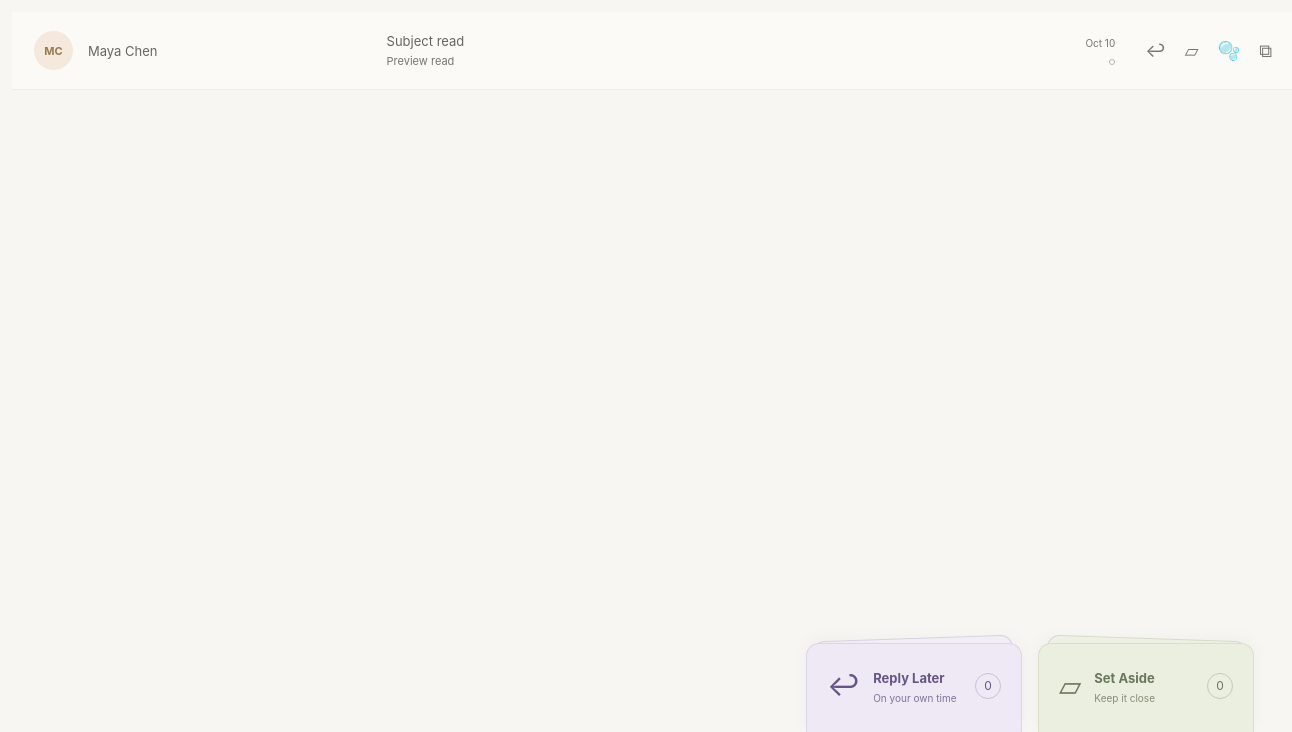
Test: shared mail components › marks seen rows distinctly and lets row actions update actual dock counts
The width and height of the screenshot is (1292, 732).
expect the element named "Seen" is shown: met, box [1109,58,1115,64]
Click the button named "Reply later: Subject read". click: (1156,50)
box: [1137,36,1174,66]
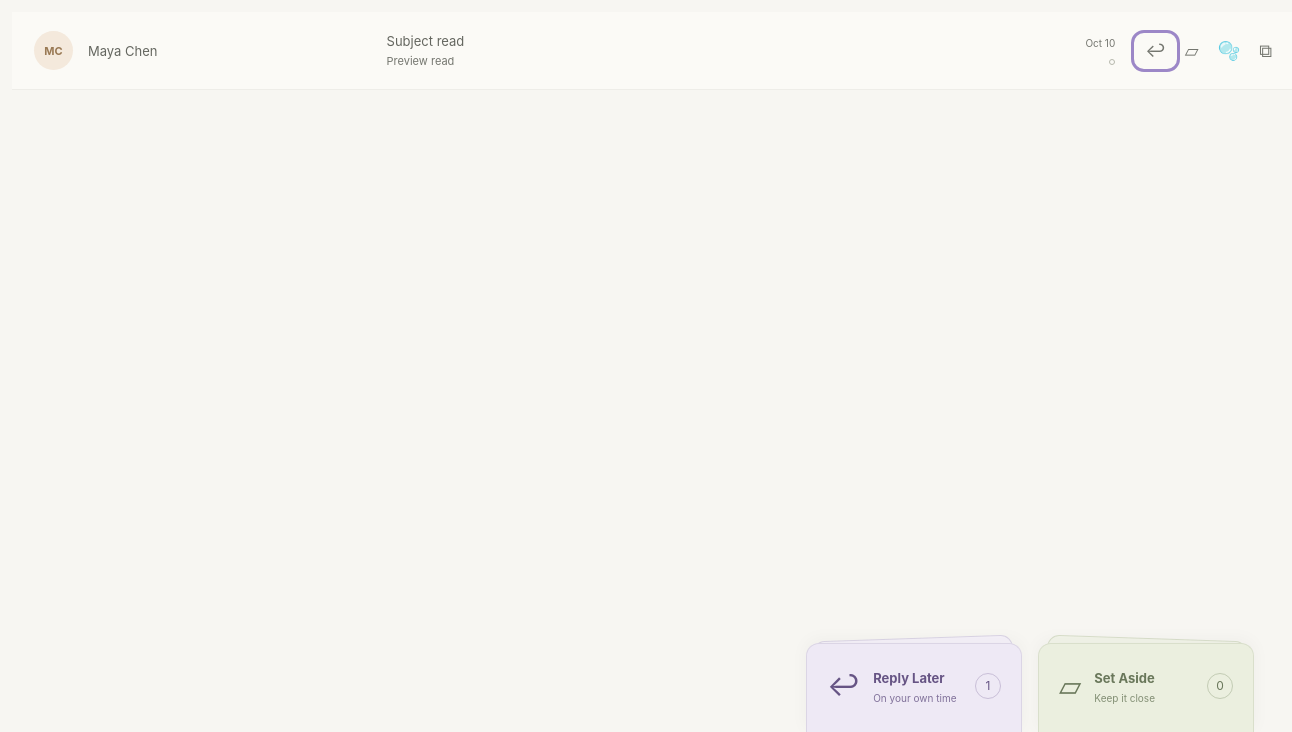
Click the button named "Set aside: Subject read". click: (1192,50)
box: [1177,36,1207,66]
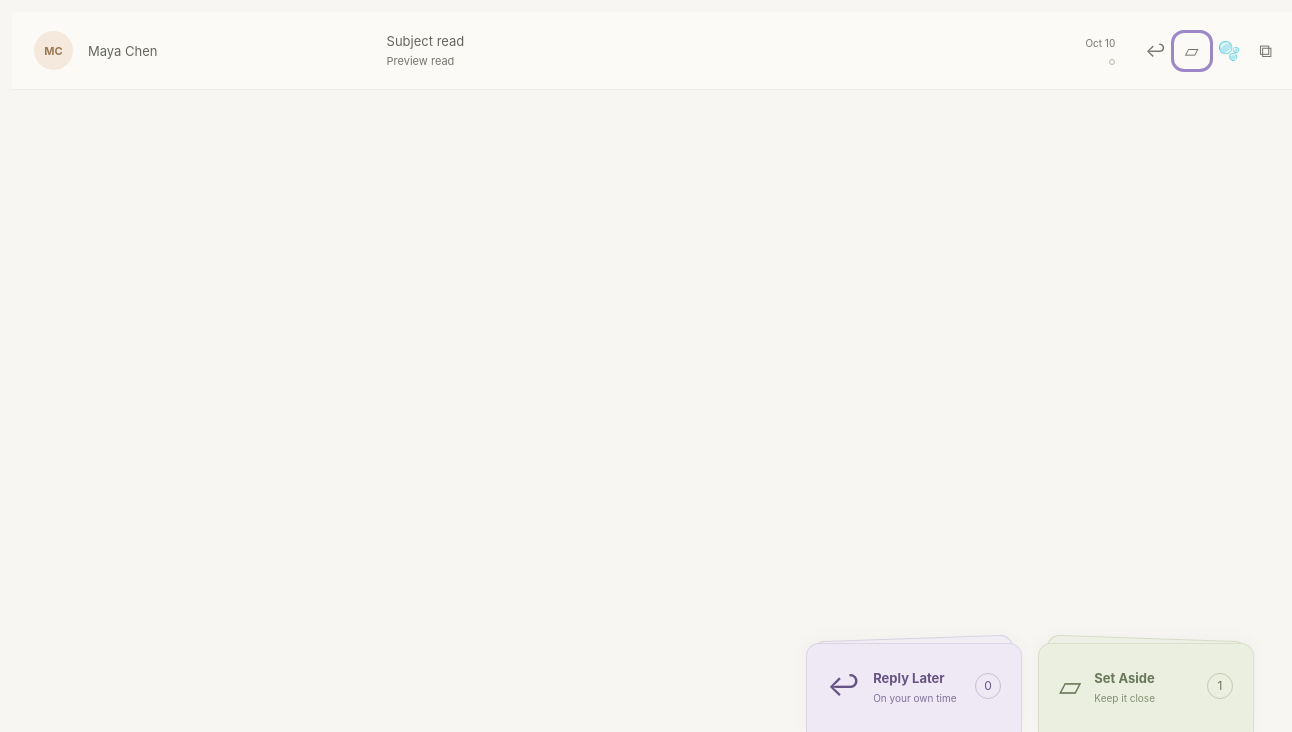
expect the link with aria-label "Reply Later, 0 emails" is shown: met, box [806,643,1022,731]
